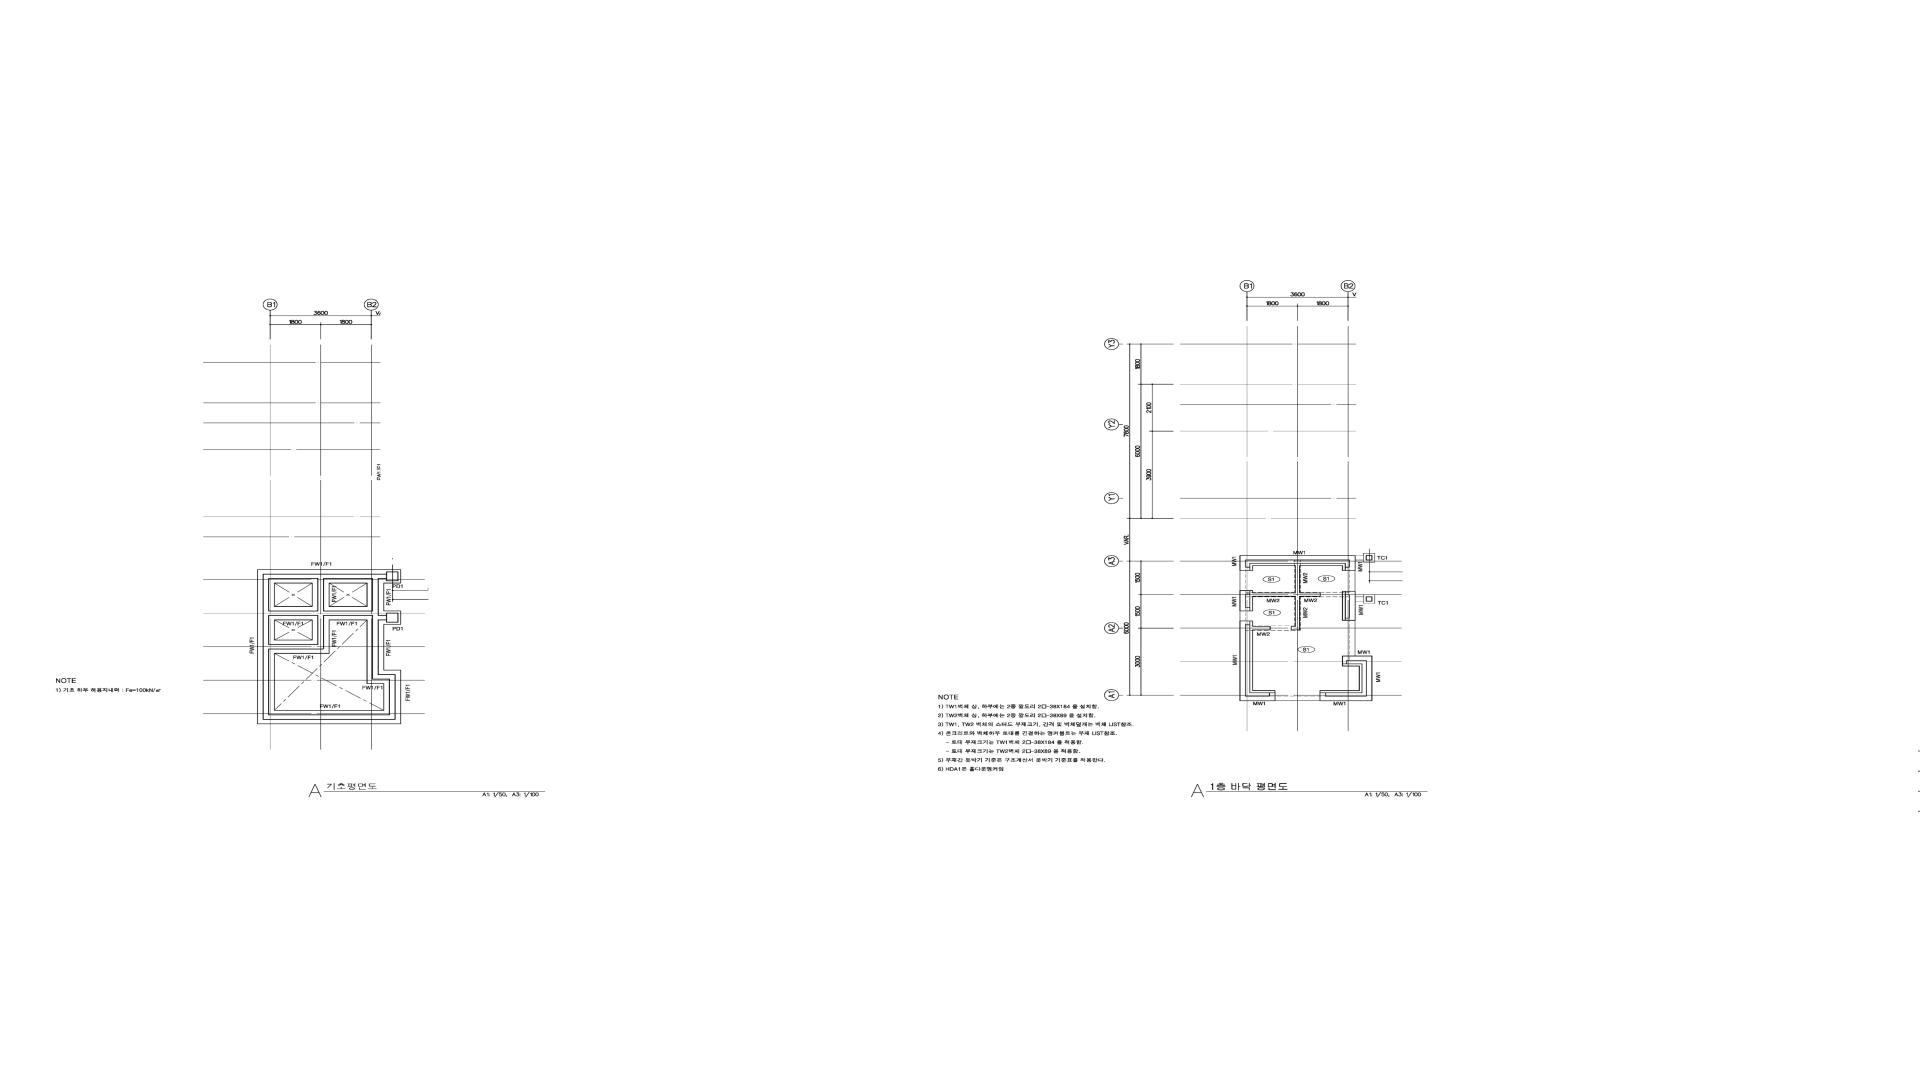wall: (1346, 655, 1373, 696), (262, 579, 269, 720), (1245, 559, 1350, 567), (1240, 621, 1250, 696), (269, 715, 396, 720), (262, 574, 386, 579), (269, 611, 372, 616), (372, 611, 378, 674), (1245, 555, 1350, 559), (1245, 624, 1250, 696), (1240, 692, 1275, 702), (1345, 591, 1356, 621), (1291, 596, 1300, 630), (269, 645, 318, 650), (1325, 696, 1373, 702), (1253, 563, 1342, 566), (389, 679, 396, 715), (318, 616, 324, 650), (1240, 591, 1250, 612), (372, 579, 378, 611), (318, 579, 324, 611), (1250, 621, 1253, 692), (1253, 593, 1320, 596), (1240, 555, 1250, 571), (1345, 555, 1356, 571), (1325, 692, 1362, 696), (1295, 566, 1300, 593), (386, 571, 398, 582), (372, 674, 396, 679), (1345, 595, 1350, 618), (1362, 665, 1366, 696), (386, 613, 398, 622), (1342, 591, 1345, 621), (1250, 692, 1270, 696), (1346, 661, 1366, 665), (1245, 593, 1250, 608), (1253, 626, 1271, 630), (1360, 667, 1362, 691), (1250, 591, 1253, 612), (1320, 691, 1362, 692), (1342, 665, 1362, 667), (1320, 692, 1325, 702), (378, 615, 386, 620), (1342, 655, 1346, 665), (1253, 691, 1275, 692), (1250, 563, 1253, 571), (1342, 563, 1345, 571)
